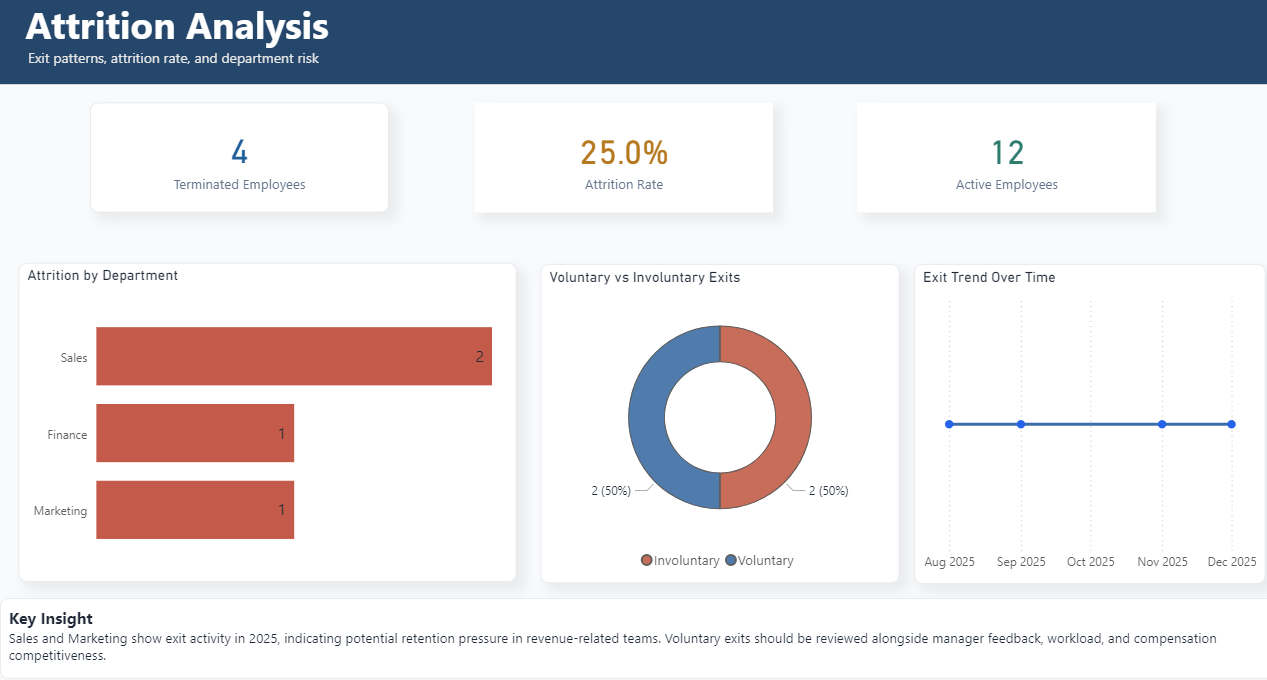

The page's visual inventory and layout, read from the dashboard file:
{"tool":"powerbi","page":{"name":"Page 2: Attrition Analysis ","canvas":[1280,720],"ordinal":1},"visuals":[{"type":"card","fields":{"Values":["cleaned_master_data.Terminated Employees"]},"box":[90.4,121,300,110],"z":0,"group":"g1"},{"type":"clusteredBarChart","title":"Attrition by Department","fields":{"Category":["cleaned_master_data.department"],"Y":["CountNonNull(cleaned_master_data.employee_id)"]},"box":[18.6,281.8,500,320],"z":1000},{"type":"card","fields":{"Values":["cleaned_master_data.Attrition Rate"]},"box":[475.4,121,300,110.3],"z":2000,"group":"g1"},{"type":"donutChart","title":"Voluntary vs Involuntary Exits","fields":{"Category":["cleaned_master_data.termination_type"],"Y":["CountNonNull(cleaned_master_data.employee_id)"]},"box":[542.4,283.2,360,320],"z":3000},{"type":"card","fields":{"Values":["cleaned_master_data.Active Employees"]},"box":[860.4,121,300,110.3],"z":4000,"group":"g1"},{"type":"lineChart","title":"Exit Trend Over Time","fields":{"Y":["CountNonNull(cleaned_master_data.employee_id)"],"Category":["cleaned_master_data.termination_date.Variation.Date Hierarchy.Year","cleaned_master_data.termination_date.Variation.Date Hierarchy.Month"]},"box":[917.3,283.2,352.3,320.4],"z":5000},{"type":"textbox","box":[0,12,1280.3,90.4],"z":6000},{"type":"group","id":"g1","title":"Group 1","box":[90.4,121,1070.2,110.3],"z":6001},{"type":"textbox","box":[0,618.2,1280.3,81.1],"z":6002}]}

Visuals, with their boxes on the page's 1280x720 design canvas (x1, y1, x2, y2). These are canvas units, not pixel positions in the 1267x680 screenshot, which may show the page scaled, cropped or inside an application window:
card - cleaned_master_data.Terminated Employees: <bbox>90, 121, 390, 231</bbox>
"Attrition by Department" clusteredBarChart: <bbox>19, 282, 519, 602</bbox>
card - cleaned_master_data.Attrition Rate: <bbox>475, 121, 775, 231</bbox>
"Voluntary vs Involuntary Exits" donutChart: <bbox>542, 283, 902, 603</bbox>
card - cleaned_master_data.Active Employees: <bbox>860, 121, 1160, 231</bbox>
"Exit Trend Over Time" lineChart: <bbox>917, 283, 1270, 604</bbox>
textbox: <bbox>0, 12, 1280, 102</bbox>
"Group 1" group: <bbox>90, 121, 1161, 231</bbox>
textbox: <bbox>0, 618, 1280, 699</bbox>
